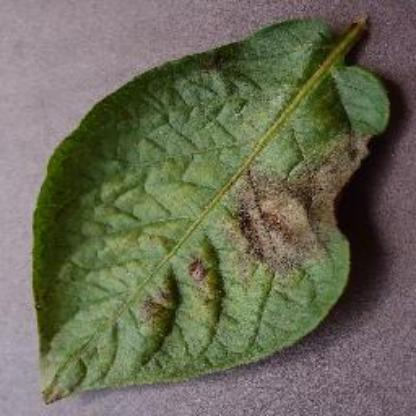Late-Blight: (18, 13, 406, 407)
